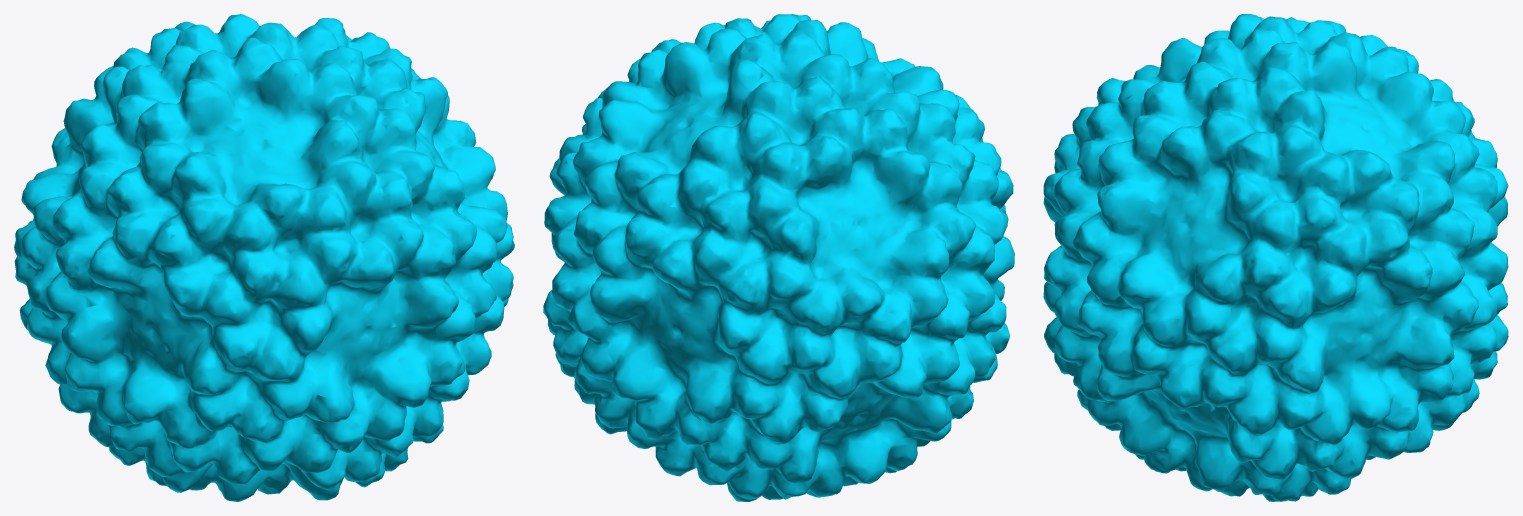
Rendered from CLP.glb.
3 views of the same model, side by side, from view 1: azimuth 30°, elevation 25°; view 2: azimuth 150°, elevation 25°; view 3: azimuth 270°, elevation 25° (orthographic).
Parts seen in each view (by area): view 1: surface; view 2: surface; view 3: surface.
Boxes of the visible parts, x1=… form: surface: x1=14, y1=14, x2=514, y2=501; surface: x1=543, y1=14, x2=1014, y2=501; surface: x1=1043, y1=14, x2=1508, y2=501.
Size of the model in its own units: 719 by 718 by 683.
